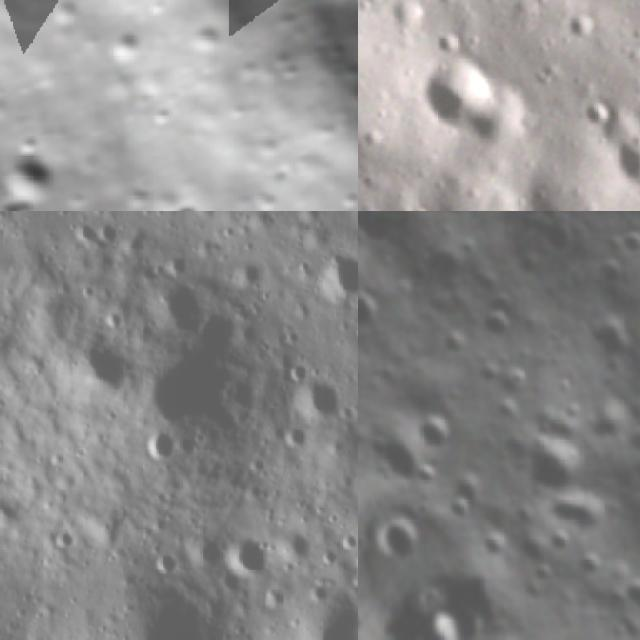crater: (395, 28, 513, 144), (358, 211, 537, 285), (358, 0, 421, 196), (455, 67, 553, 164), (137, 341, 245, 427), (489, 154, 630, 211), (121, 579, 250, 640), (514, 424, 595, 509), (550, 476, 618, 554), (0, 135, 68, 211), (593, 114, 640, 208), (71, 326, 131, 396), (157, 271, 210, 333), (551, 1, 605, 57), (433, 482, 485, 536), (316, 245, 358, 311), (571, 87, 623, 139), (302, 592, 358, 640), (475, 297, 522, 354), (612, 552, 640, 640), (292, 377, 346, 422), (230, 528, 274, 579), (186, 525, 233, 572), (415, 406, 462, 453), (358, 278, 392, 340), (474, 526, 518, 572), (141, 426, 183, 466), (280, 525, 316, 566), (159, 188, 216, 211), (0, 182, 39, 211), (613, 224, 640, 264), (282, 425, 314, 451)
